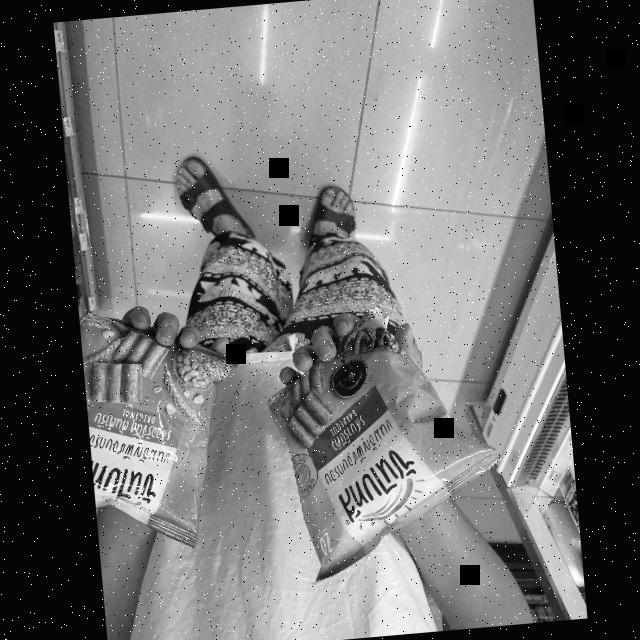snack_bag: (257, 284, 514, 587), (79, 300, 248, 562)
